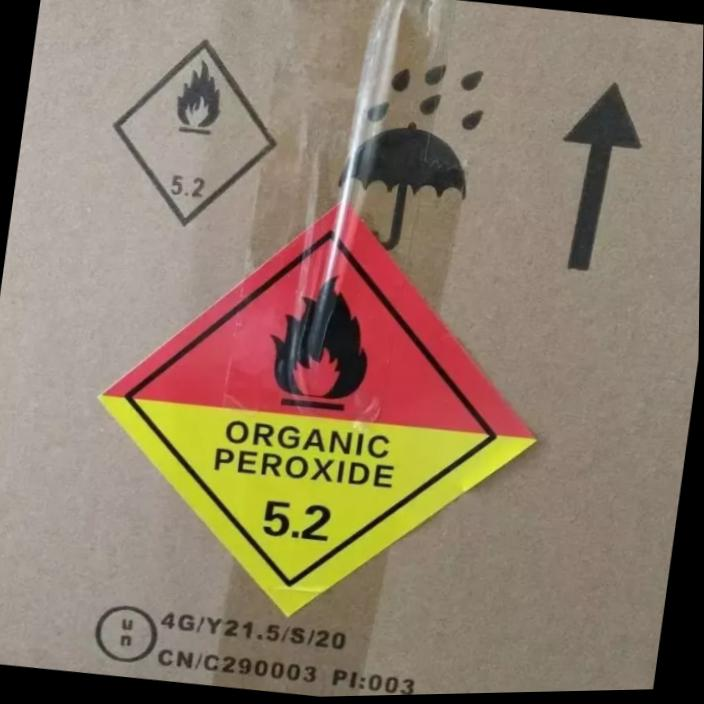defibrillator sign: (101, 202, 534, 614)
